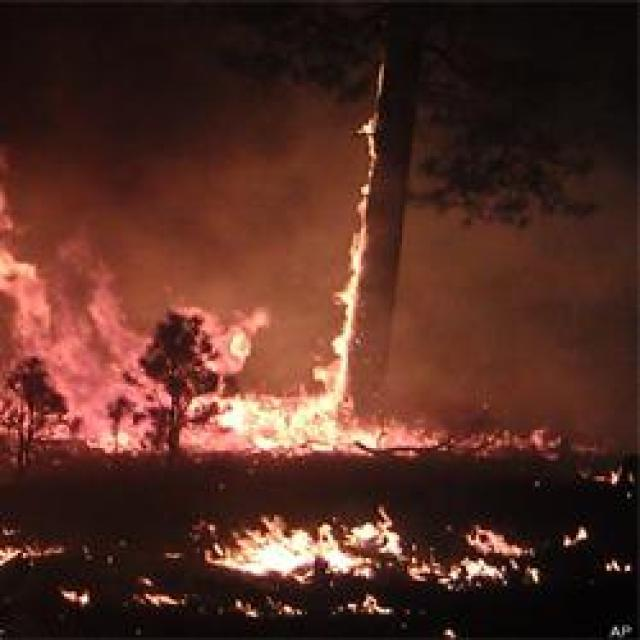Fire: (48, 313, 144, 437), (233, 528, 398, 574), (206, 396, 344, 440), (340, 236, 360, 386)
